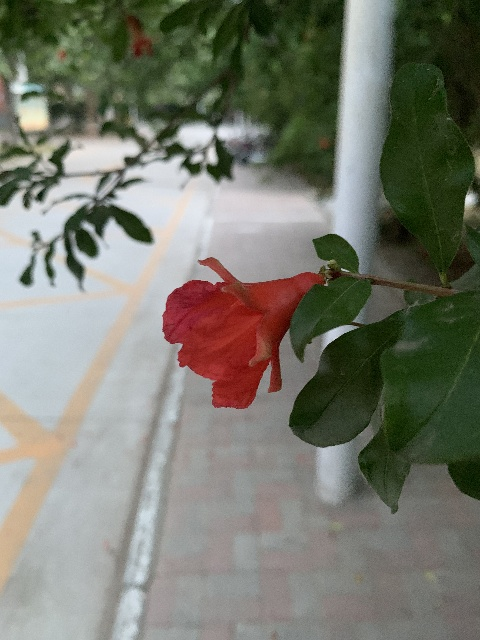flower: (163, 256, 322, 409)
